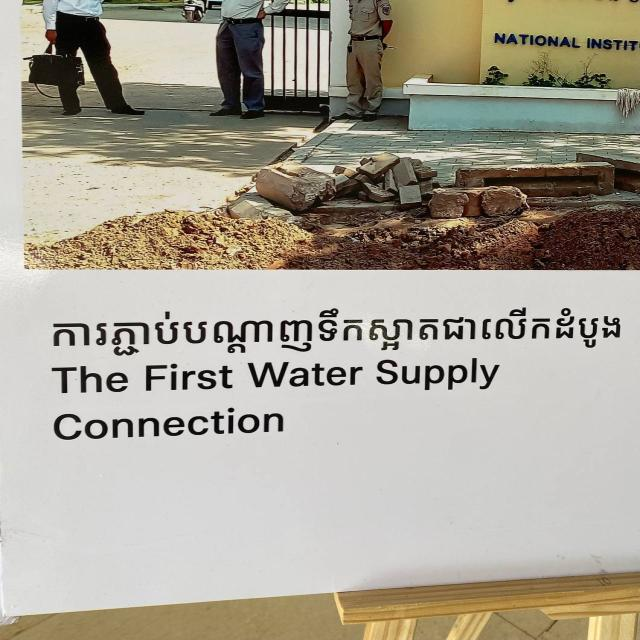Yolov11_80vkh: (44, 302, 627, 360)
